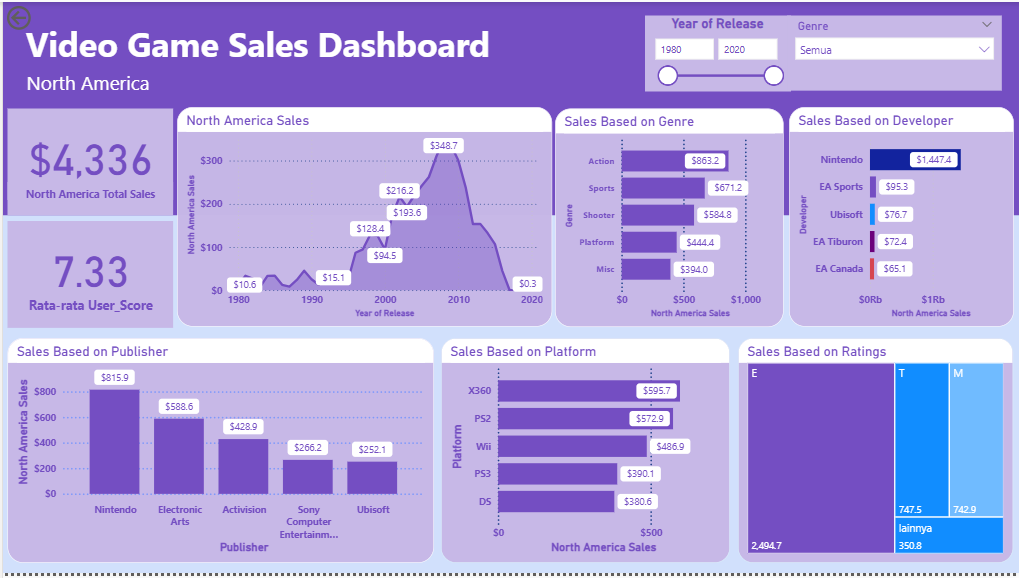

The page's visual inventory and layout, read from the dashboard file:
{"tool":"powerbi","page":{"name":"Halaman 1","canvas":[1280,720],"ordinal":0},"visuals":[{"type":"textbox","box":[0,0,1280,268.3],"z":0},{"type":"slicer","title":"Year of Release","fields":{"Values":["Data Cleaned (4).Year_of_Release"]},"box":[809.2,17.7,183.1,94.6],"z":1000},{"type":"card","fields":{"Values":["Sum(Data Cleaned (4).NA_Sales)"]},"box":[4.9,134.4,208.9,115],"z":2000},{"type":"lineChart","title":"North America Sales","fields":{"Y":["Sum(Data Cleaned (4).NA_Sales)"],"Category":["Data Cleaned (4).Year_of_Release"]},"box":[218.6,132.8,472.8,276.9],"z":3000},{"type":"clusteredBarChart","title":"Sales Based on Platform","fields":{"Y":["Sum(Data Cleaned (4).NA_Sales)"],"Category":["Data Cleaned (4).Platform"]},"box":[552.2,422.6,364.3,283.4],"z":4000},{"type":"treemap","title":"Sales Based on Ratings","fields":{"Values":["Sum(Data Cleaned (4).NA_Sales)"],"Group":["Data Cleaned (4).Rating"]},"box":[926.2,422.6,346.5,283.4],"z":5000},{"type":"actionButton","box":[0,0,100,40],"z":6000},{"type":"clusteredBarChart","title":"Sales Based on Developer","fields":{"Y":["Sum(Data Cleaned (4).NA_Sales)"],"Category":["Data Cleaned (4).Developer"]},"box":[989.3,132.8,283.4,276.9],"z":7000},{"type":"lineStackedColumnComboChart","title":"Sales Based on Publisher","fields":{"Y":["Sum(Data Cleaned (4).NA_Sales)"],"Category":["Data Cleaned (4).Publisher"]},"box":[4.9,422.6,537.6,283.4],"z":8000},{"type":"textbox","box":[4.9,226.7,208.9,42.1],"z":9000},{"type":"barChart","title":"Sales Based on Genre","fields":{"Category":["Data Cleaned (4).Genre"],"Y":["Sum(Data Cleaned (4).NA_Sales)"]},"box":[696.3,134.4,288.2,275.3],"z":10000},{"type":"textbox","box":[24.3,79.3,375.7,61.5],"z":11000},{"type":"card","fields":{"Values":["Avg(Data Cleaned (4).User_Score)"]},"box":[4.9,275.3,208.9,134.4],"z":12000},{"type":"slicer","fields":{"Values":["Data Cleaned (4).Genre"]},"box":[989.2,17.7,270,94.6],"z":13000}]}

Visuals, with their boxes in screenshot pixels (x1, y1, x2, y2), scaled from the page's 1280x720 canvas onto the 1019x578 screenshot:
textbox: locate(0, 0, 1018, 215)
"Year of Release" slicer: locate(644, 14, 790, 90)
card - Sum(Data Cleaned (4).NA_Sales): locate(4, 108, 170, 200)
"North America Sales" lineChart: locate(174, 107, 550, 329)
"Sales Based on Platform" clusteredBarChart: locate(440, 339, 730, 567)
"Sales Based on Ratings" treemap: locate(737, 339, 1013, 567)
actionButton: locate(0, 0, 80, 32)
"Sales Based on Developer" clusteredBarChart: locate(788, 107, 1013, 329)
"Sales Based on Publisher" lineStackedColumnComboChart: locate(4, 339, 432, 567)
textbox: locate(4, 182, 170, 216)
"Sales Based on Genre" barChart: locate(554, 108, 784, 329)
textbox: locate(19, 64, 318, 113)
card - Avg(Data Cleaned (4).User_Score): locate(4, 221, 170, 329)
slicer - Data Cleaned (4).Genre: locate(787, 14, 1002, 90)
